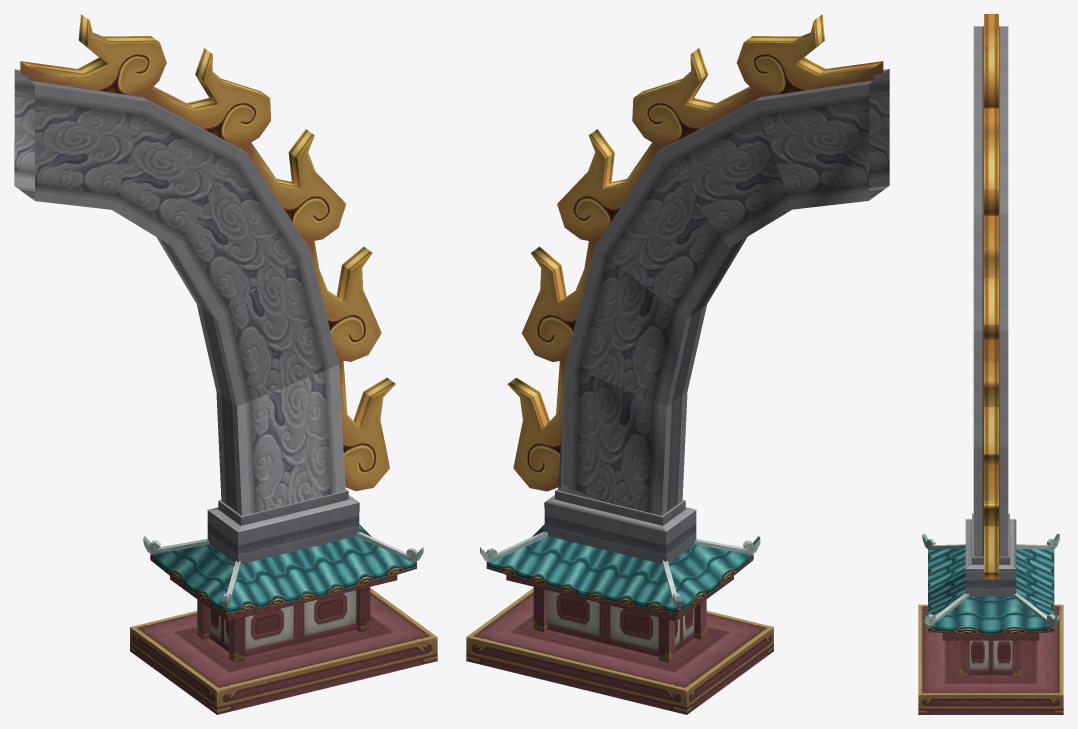
File: W3_HD_GongHuiBoss_zhuangshi_01_01_D.FBX
3 renders of one model, left to right at view 1: azimuth 30°, elevation 25°; view 2: azimuth 150°, elevation 25°; view 3: azimuth 270°, elevation 25°, orthographic. The views are drawn at different scales.
Visible parts, largest first — view 1: W3_HD_GongHuiBoss_zhuangshi_01_01_D; view 2: W3_HD_GongHuiBoss_zhuangshi_01_01_D; view 3: W3_HD_GongHuiBoss_zhuangshi_01_01_D.
Boxes of the visible parts, box(x1,y1,x2,y2) form: W3_HD_GongHuiBoss_zhuangshi_01_01_D: box(14, 14, 437, 714); W3_HD_GongHuiBoss_zhuangshi_01_01_D: box(466, 14, 889, 714); W3_HD_GongHuiBoss_zhuangshi_01_01_D: box(918, 14, 1063, 714).
Size of the model in its own units: 9.27 by 16.49 by 3.78.
Materials: 1 (1 with a texture image).
